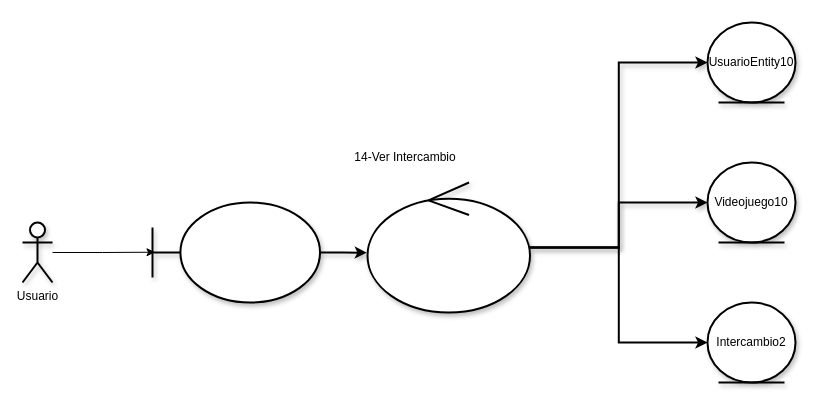
Image size: 820x407. Some labels were removed from this diagram. The shapes that lost their labels are listed below. From the top down, each one's centre as x and y in pixels, then its label:
At pixel 236 253: "VerIntercambioUi".
At pixel 449 248: "VerIntercambioAction".
